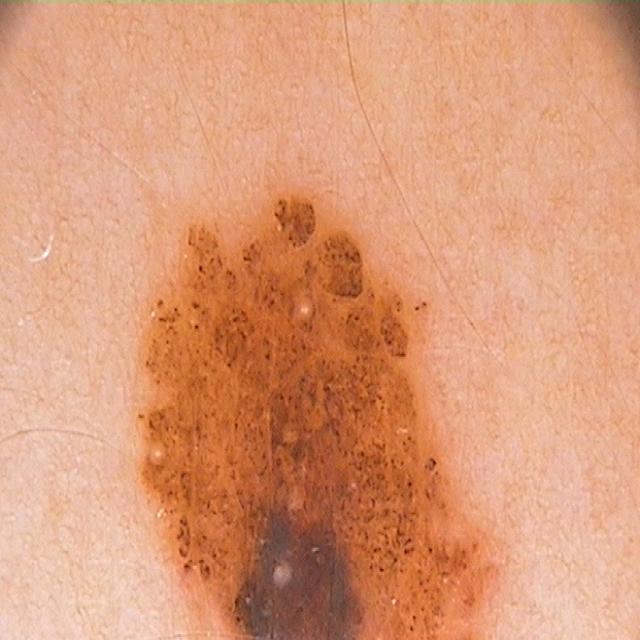Melanoma: (133, 178, 515, 640)
